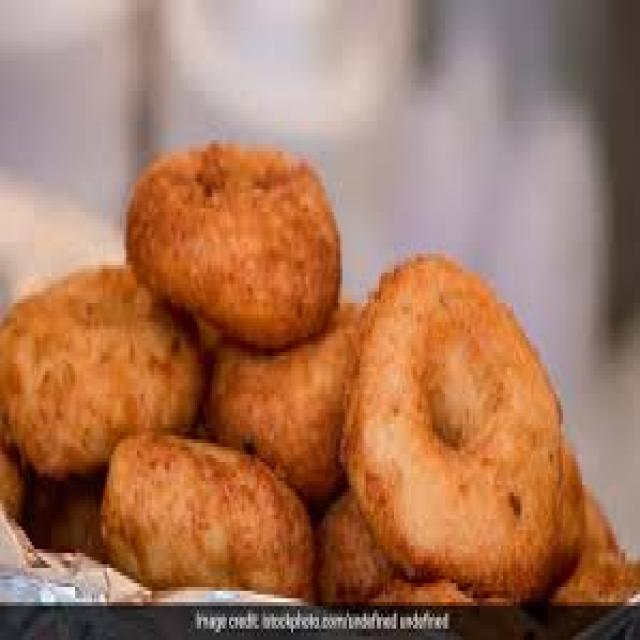MEDU VADA: (340, 255, 561, 597), (130, 146, 336, 345), (3, 273, 201, 476), (102, 437, 315, 600), (208, 294, 359, 485)
